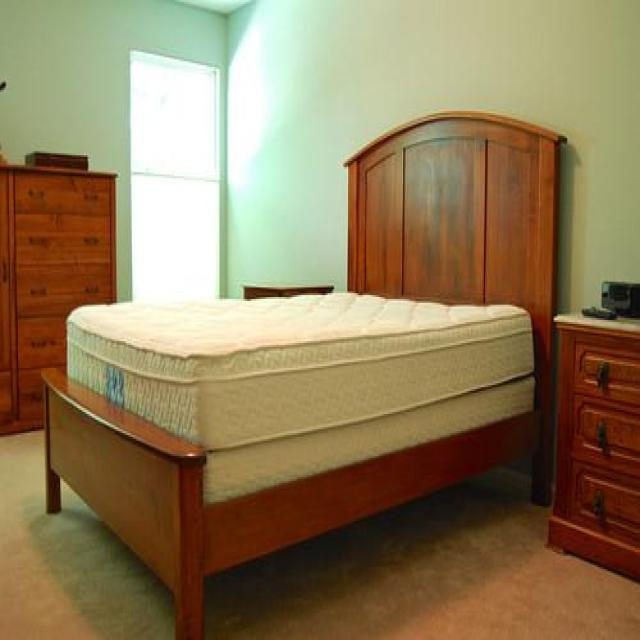bed: (38, 107, 567, 638)
